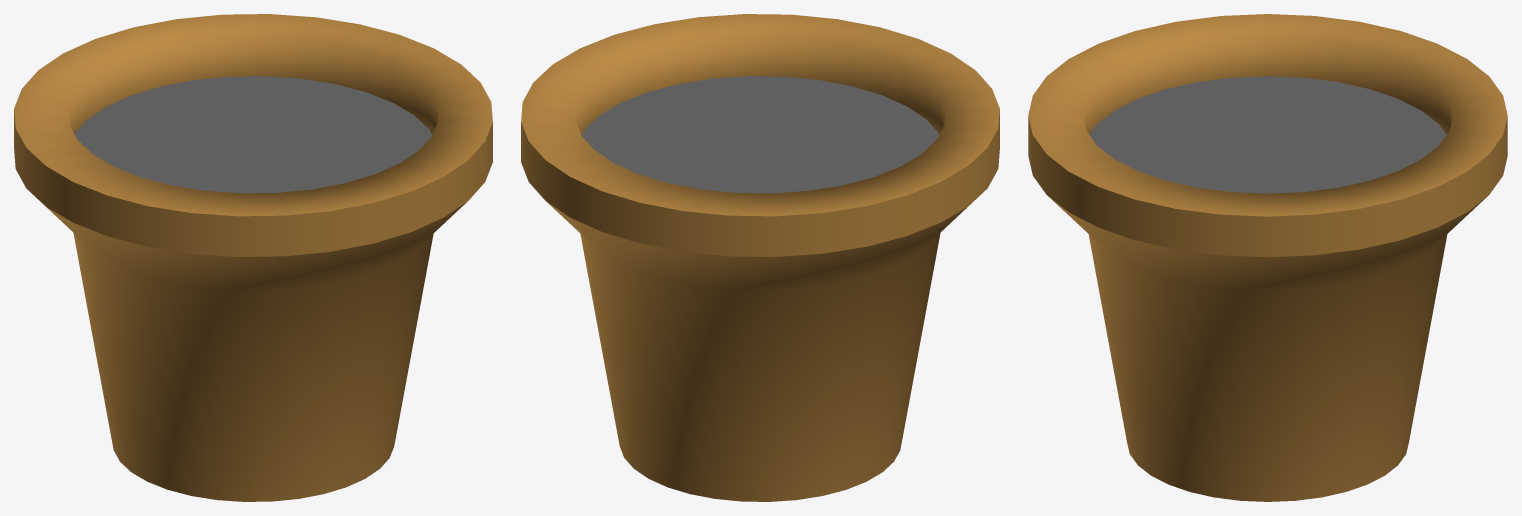
The model's file is Mplants2.fbx.
3 renders of one model, left to right at view 1: azimuth 30°, elevation 25°; view 2: azimuth 150°, elevation 25°; view 3: azimuth 270°, elevation 25°, orthographic.
Parts seen in each view (by area): view 1: Mplants2; view 2: Mplants2; view 3: Mplants2.
Boxes of the visible parts, x1=… form: Mplants2: x1=14, y1=14, x2=492, y2=501; Mplants2: x1=521, y1=14, x2=999, y2=501; Mplants2: x1=1028, y1=14, x2=1507, y2=501.
Size of the model in its own units: 0.6145 by 0.6145 by 0.4625.
